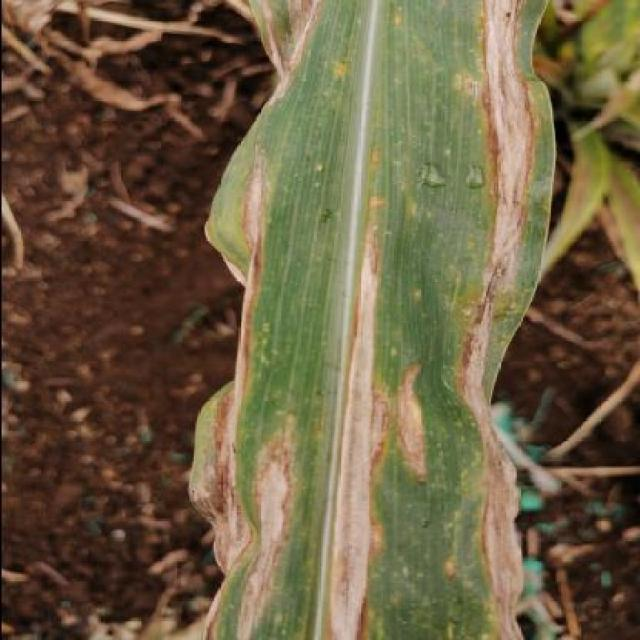Corn_Leaf_Blight: (195, 0, 552, 640)
